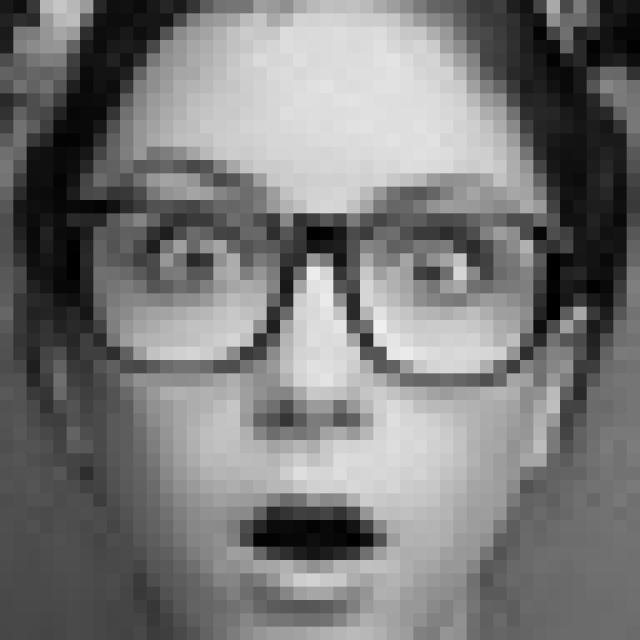surprise: (74, 132, 545, 614)
